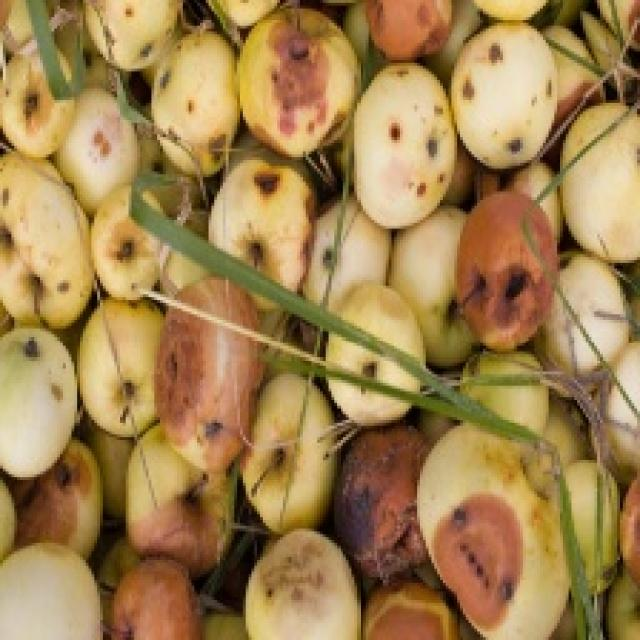rotten_apple: (418, 424, 534, 606), (156, 282, 260, 468), (242, 13, 359, 149), (359, 66, 457, 221), (461, 192, 554, 337), (458, 27, 556, 162), (208, 159, 312, 282), (341, 432, 426, 578), (130, 441, 229, 560), (249, 531, 357, 640), (27, 446, 100, 551), (109, 555, 199, 640), (0, 48, 71, 151), (365, 0, 453, 58)
